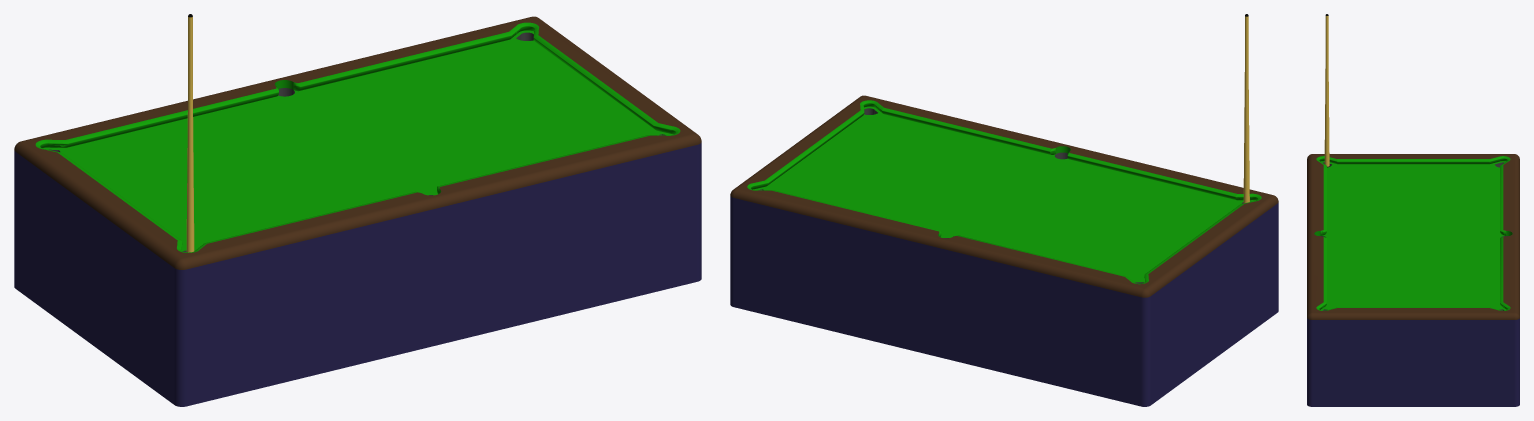
Rendered from pool-table-old.glb.
3 renders of one model, left to right at view 1: azimuth 30°, elevation 25°; view 2: azimuth 150°, elevation 25°; view 3: azimuth 270°, elevation 25°, orthographic. The views are drawn at different scales.
Visible parts, largest first — view 1: Base, Felt, Edges, Cue; view 2: Base, Felt, Edges, Cue; view 3: Felt, Base, Edges, Cue.
Boxes of the visible parts, x1,y1,x2,y2 form: Base: [14, 142, 701, 406]; Felt: [35, 22, 680, 252]; Edges: [14, 16, 701, 269]; Cue: [186, 17, 194, 252]; Base: [730, 196, 1278, 406]; Felt: [747, 100, 1261, 284]; Edges: [730, 95, 1278, 297]; Cue: [1243, 16, 1249, 203]; Felt: [1314, 156, 1512, 310]; Base: [1307, 318, 1519, 406]; Edges: [1307, 154, 1519, 319]; Cue: [1324, 16, 1329, 166].
Size of the model in its own units: 3.06 by 2.09 by 1.69.
